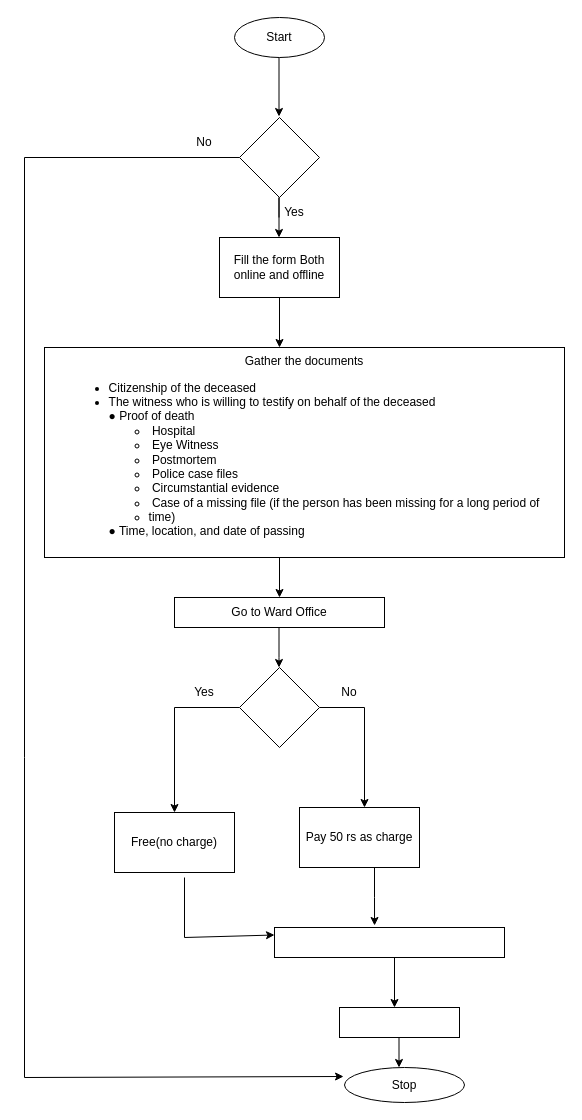
The diagram is 582 pixels wide and 1120 high, and some of its shapes have lost their labels. The shapes that lost their labels are listed below. From the top down, each one's box as (x1, y1, x2, y2) in pixels, then its label:
(238, 116, 320, 198): Eligible ?
(238, 666, 320, 748): 35 days of passing?
(274, 926, 504, 958): Submit the application
(338, 1006, 460, 1038): Get the Death Certificate
